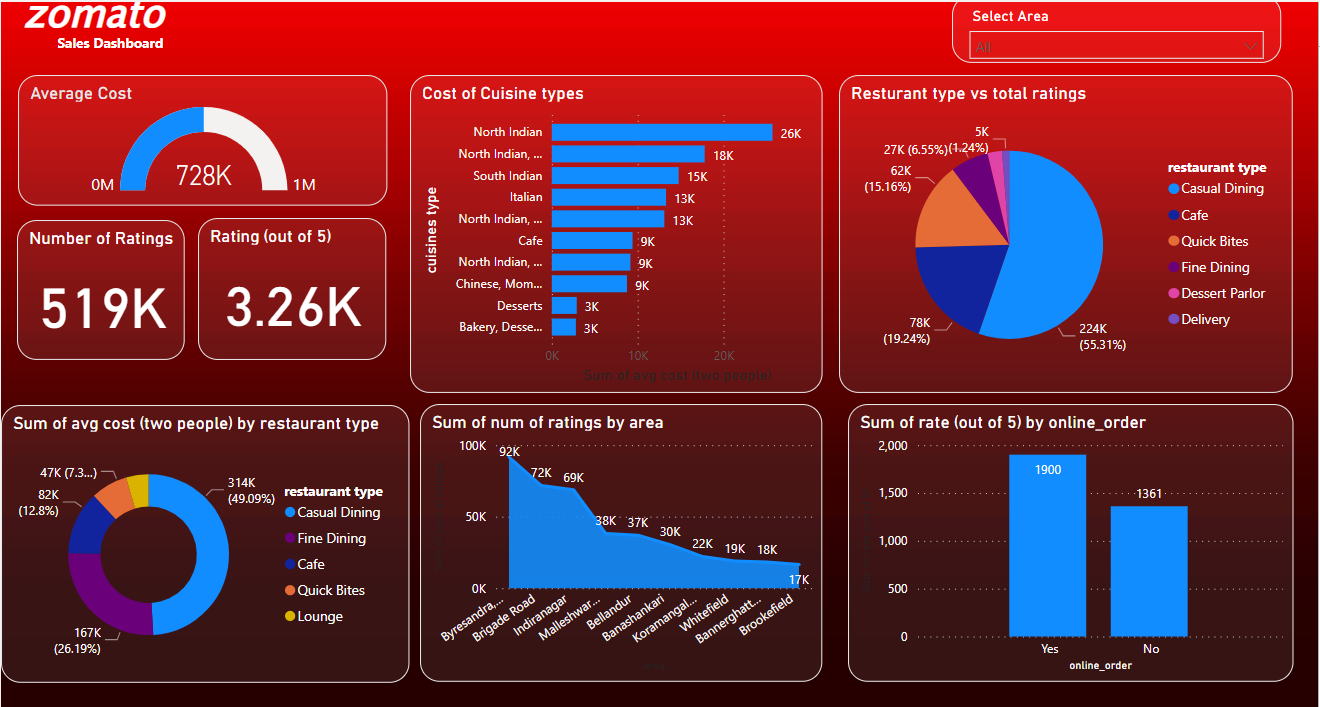

Layout of this report page (visuals, bound fields, positions):
{"tool":"powerbi","page":{"name":"Page 1","canvas":[1280,720],"ordinal":0},"visuals":[{"type":"clusteredBarChart","title":"Cost of Cuisine types","fields":{"Category":["zomato.cuisines type"],"Y":["Sum(zomato.avg cost (two people))"]},"box":[397.1,105.7,401.4,308.6],"z":0},{"type":"pieChart","title":"Resturant type vs total ratings","fields":{"Category":["zomato.restaurant type"],"Y":["Sum(zomato.num of ratings)"]},"box":[814.3,105.7,441.4,308.6],"z":1000},{"type":"donutChart","fields":{"Category":["zomato.restaurant type"],"Y":["Sum(zomato.avg cost (two people))"]},"box":[0,426.3,397,269.7],"z":2000},{"type":"columnChart","fields":{"Category":["zomato.online_order"],"Y":["Sum(zomato.rate (out of 5))"]},"box":[822.9,425.7,432.9,270],"z":3000},{"type":"card","title":"Rating (out of 5)","fields":{"Values":["Sum(zomato.rate (out of 5))"]},"box":[191.9,244.4,182.8,138.4],"z":4000},{"type":"card","title":"Number of Ratings","fields":{"Values":["Sum(zomato.num of ratings)"]},"box":[15.7,247.1,162.9,135.7],"z":5000},{"type":"slicer","fields":{"Values":["zomato.area"]},"box":[924.3,28.6,320,65.7],"z":6000},{"type":"areaChart","fields":{"Category":["zomato.area"],"Y":["Sum(zomato.num of ratings)"]},"box":[407,426,391,270],"z":7000},{"type":"gauge","title":"Average Cost","fields":{"Y":["Sum(zomato.avg cost (two people))"]},"box":[16.2,106.1,358.6,127.3],"z":8000},{"type":"textbox","box":[16.2,13.1,207.1,68.7],"z":8001},{"type":"textbox","box":[49.5,60.6,183.8,41.4],"z":8002}]}

Visuals, with their boxes in screenshot pixels (x1, y1, x2, y2):
"Cost of Cuisine types" clusteredBarChart: box(414, 66, 832, 387)
"Resturant type vs total ratings" pieChart: box(849, 66, 1309, 387)
donutChart - zomato.restaurant type x Sum(zomato.avg cost (two people)): box(0, 400, 414, 681)
columnChart - zomato.online_order x Sum(zomato.rate (out of 5)): box(858, 399, 1309, 681)
"Rating (out of 5)" card: box(200, 210, 391, 354)
"Number of Ratings" card: box(16, 213, 186, 354)
slicer - zomato.area: box(964, 0, 1297, 54)
areaChart - zomato.area x Sum(zomato.num of ratings): box(424, 399, 832, 681)
"Average Cost" gauge: box(17, 66, 391, 199)
textbox: box(17, 0, 233, 41)
textbox: box(52, 18, 243, 62)
